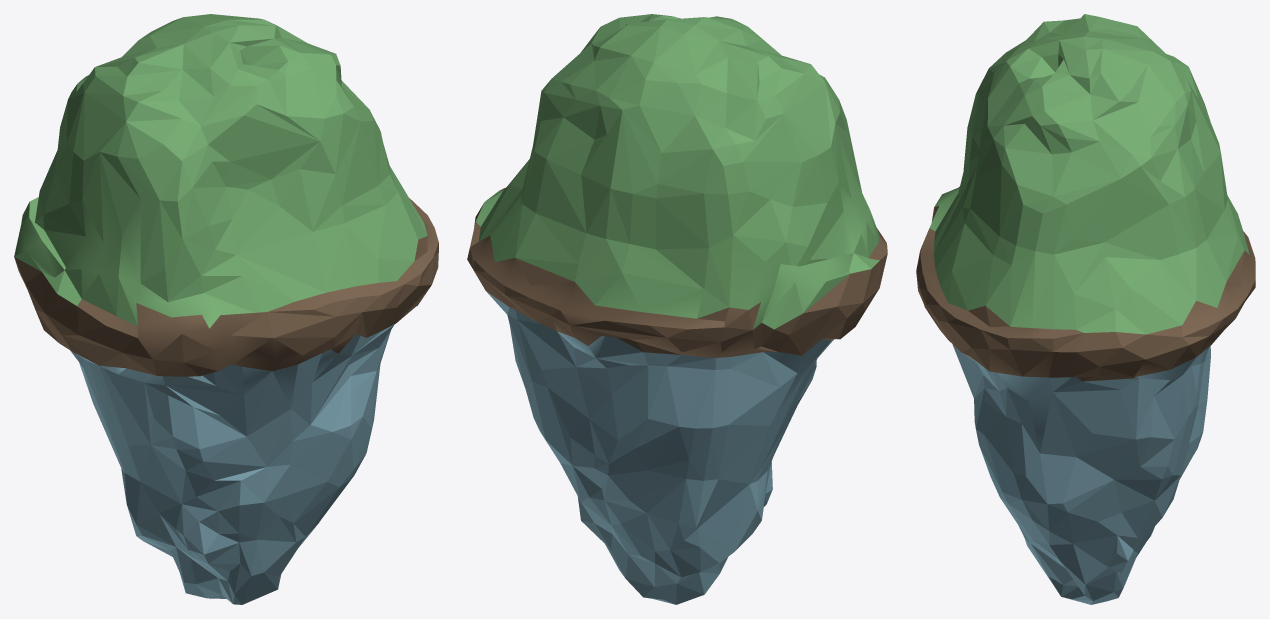
Rendered from island_large.fbx.
The picture shows the model from 3 angles, left to right: view 1: azimuth 30°, elevation 25°; view 2: azimuth 150°, elevation 25°; view 3: azimuth 270°, elevation 25°; orthographic projection. The views are drawn at different scales.
Parts seen in each view (by area): view 1: island2:island02; view 2: island2:island02; view 3: island2:island02.
Part boxes in pixels (x1,y1,x2,y2): island2:island02: [14, 14, 438, 604]; island2:island02: [467, 14, 887, 604]; island2:island02: [916, 14, 1255, 604].
Bounding box in the file's own units: 126 × 187 × 104.
